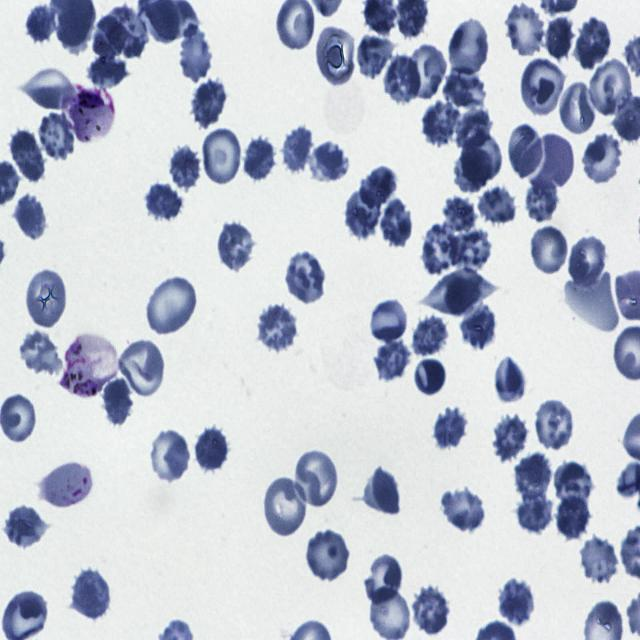red blood cell: (418, 268, 500, 316), (562, 272, 621, 334), (146, 272, 199, 336), (91, 4, 150, 58), (119, 337, 167, 399), (262, 474, 308, 538), (294, 446, 340, 510), (520, 55, 566, 117), (447, 16, 492, 79), (24, 266, 68, 330), (305, 526, 353, 584), (587, 58, 634, 117), (528, 134, 575, 192), (316, 22, 356, 89), (19, 66, 76, 112), (202, 125, 242, 186), (150, 427, 192, 485), (407, 41, 448, 100), (568, 233, 610, 290), (254, 302, 301, 352), (284, 250, 326, 305), (534, 397, 576, 452), (342, 183, 382, 240), (369, 585, 410, 640), (8, 128, 48, 184), (505, 1, 545, 57), (440, 485, 486, 533), (360, 160, 398, 218), (70, 567, 111, 620), (420, 222, 460, 276), (458, 300, 498, 353), (513, 451, 553, 504), (217, 218, 256, 272), (508, 122, 544, 180), (17, 330, 61, 377), (443, 65, 487, 112), (366, 552, 404, 606), (37, 111, 77, 162), (361, 466, 401, 516), (582, 134, 622, 184), (498, 576, 537, 627), (558, 84, 597, 135), (579, 536, 620, 584), (461, 135, 502, 183), (179, 21, 211, 82), (2, 504, 48, 546), (450, 228, 492, 274), (368, 296, 409, 343), (531, 226, 569, 276), (355, 34, 396, 80), (576, 17, 612, 69), (0, 392, 36, 444), (382, 56, 420, 105), (412, 585, 450, 634), (553, 461, 594, 506), (454, 146, 494, 192), (378, 198, 414, 249), (374, 338, 413, 385), (190, 78, 228, 126), (556, 493, 594, 541), (492, 415, 530, 463), (454, 106, 495, 150), (194, 425, 230, 474), (307, 139, 348, 182), (524, 175, 560, 223), (169, 139, 202, 191), (422, 99, 458, 146), (144, 182, 186, 222), (492, 354, 525, 404), (242, 135, 277, 182), (411, 316, 450, 358), (101, 376, 133, 427), (516, 492, 554, 534), (413, 354, 450, 397), (13, 195, 48, 240), (23, 3, 58, 46), (477, 187, 517, 224), (87, 54, 130, 88), (282, 125, 313, 172), (442, 195, 479, 234), (433, 406, 467, 448), (545, 15, 575, 60)
ring: (39, 460, 93, 513)
trophozoite: (59, 328, 120, 399), (66, 81, 116, 144)
